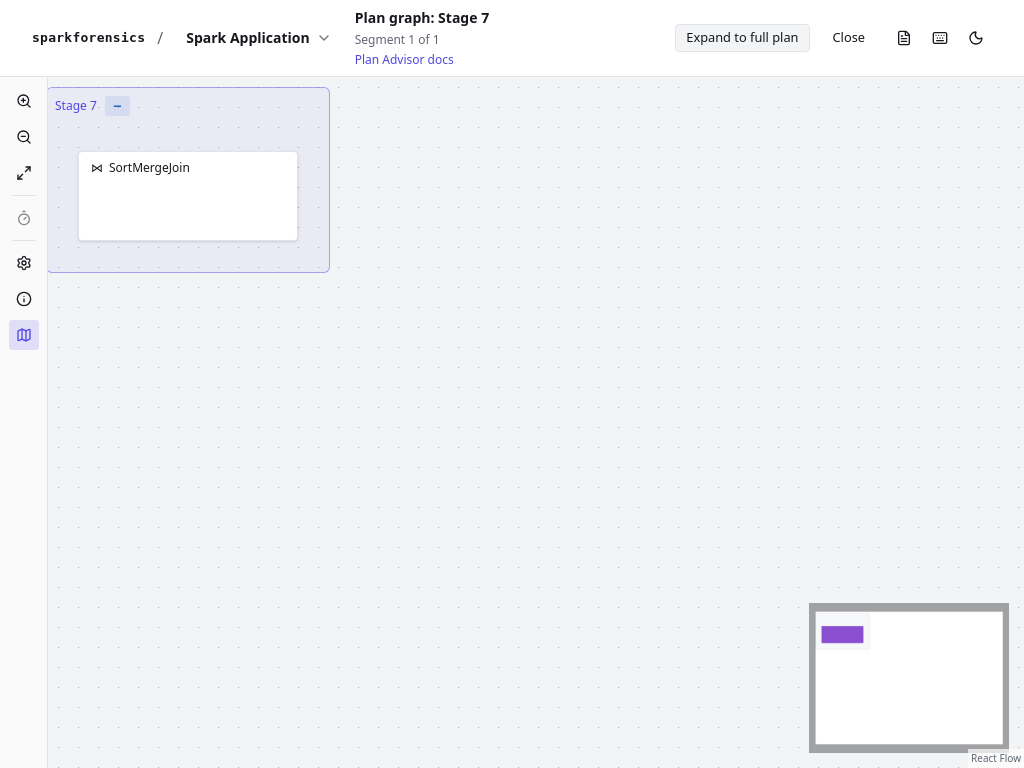
Scenario: opening a node detail reuses the cached layout instead of re-running Dagre
Click the text "SortMergeJoin" at (149, 168), box [109,160,190,176]
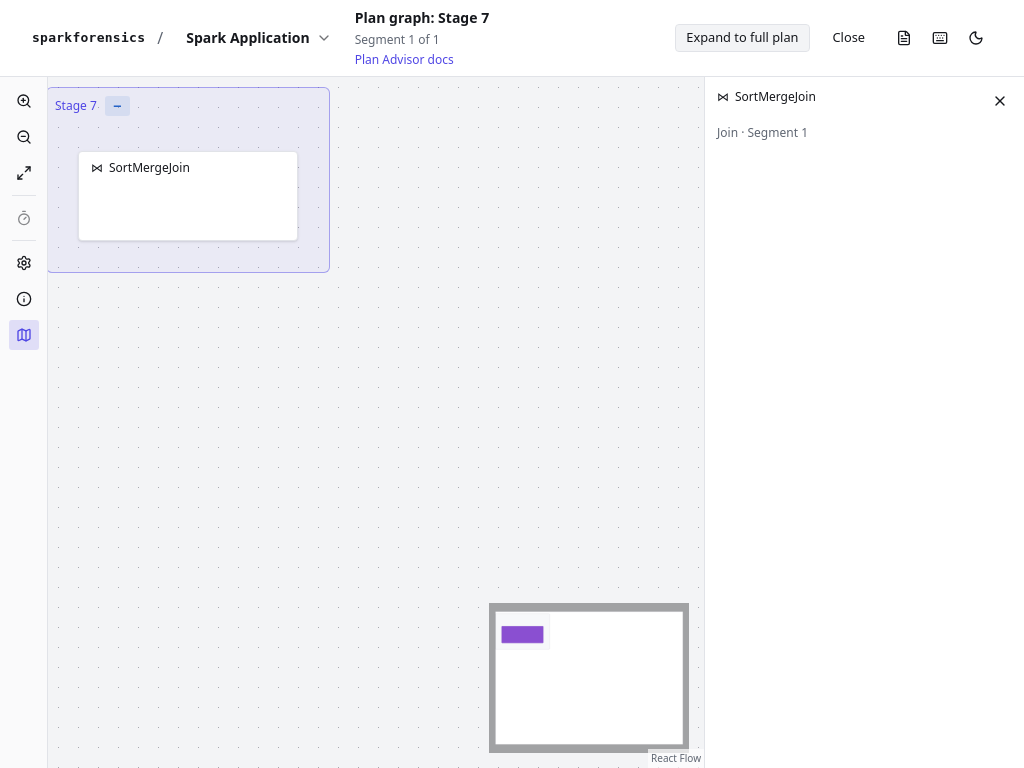
Now the dialog with test id "plan-node-detail" is shown, box [704,77,1023,767]
